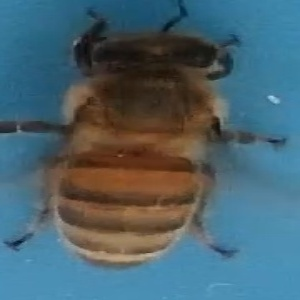bee: (2, 10, 288, 273)
